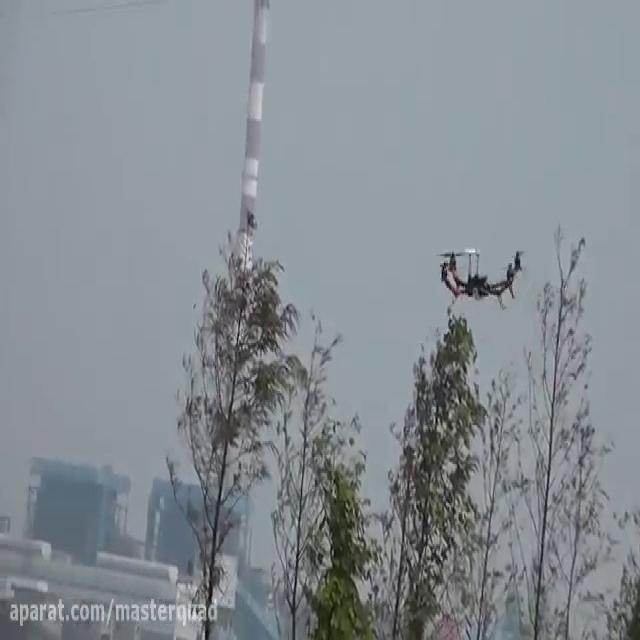drone: (431, 237, 527, 310)
